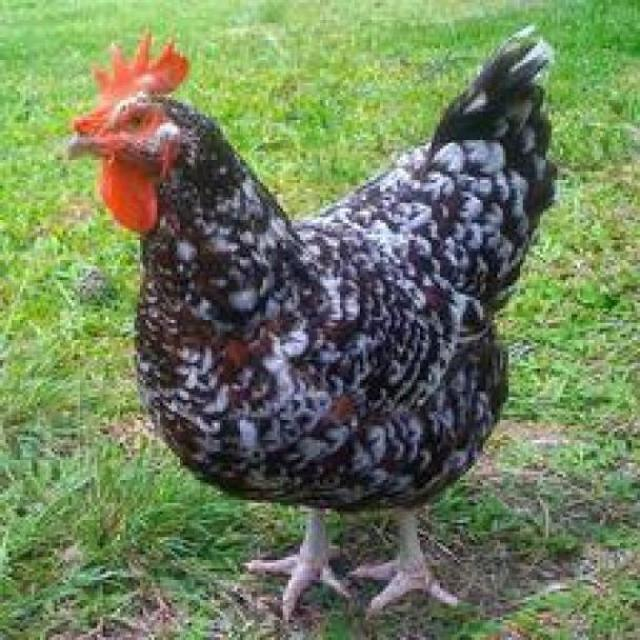Chicken: (25, 11, 615, 640)
